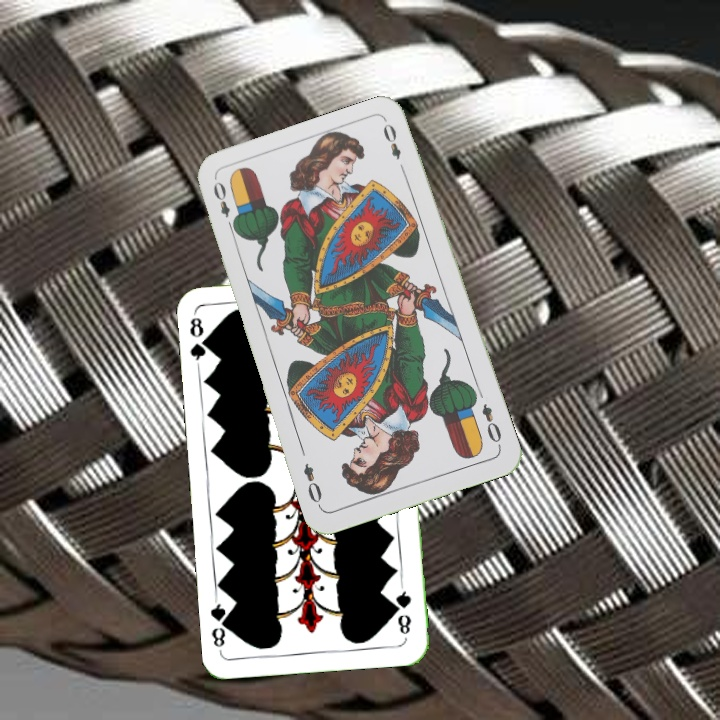EO: (209, 177, 239, 234), (478, 399, 504, 450)
G8: (186, 305, 214, 363), (391, 580, 414, 638)
